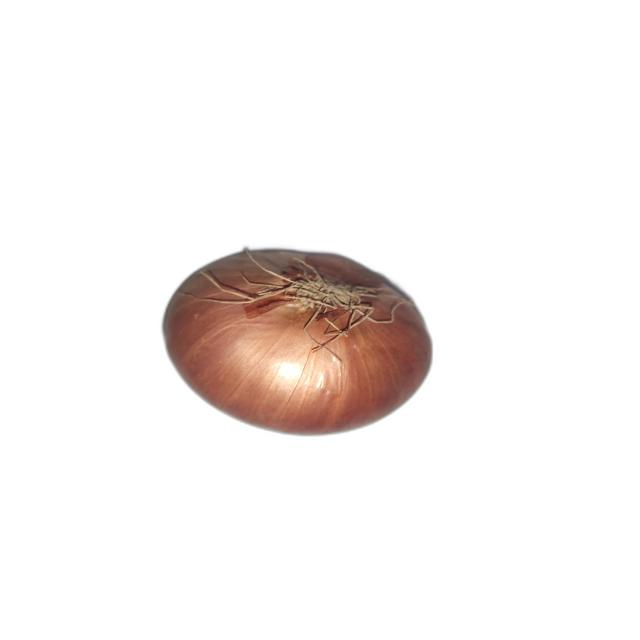onion: (162, 248, 436, 437)
